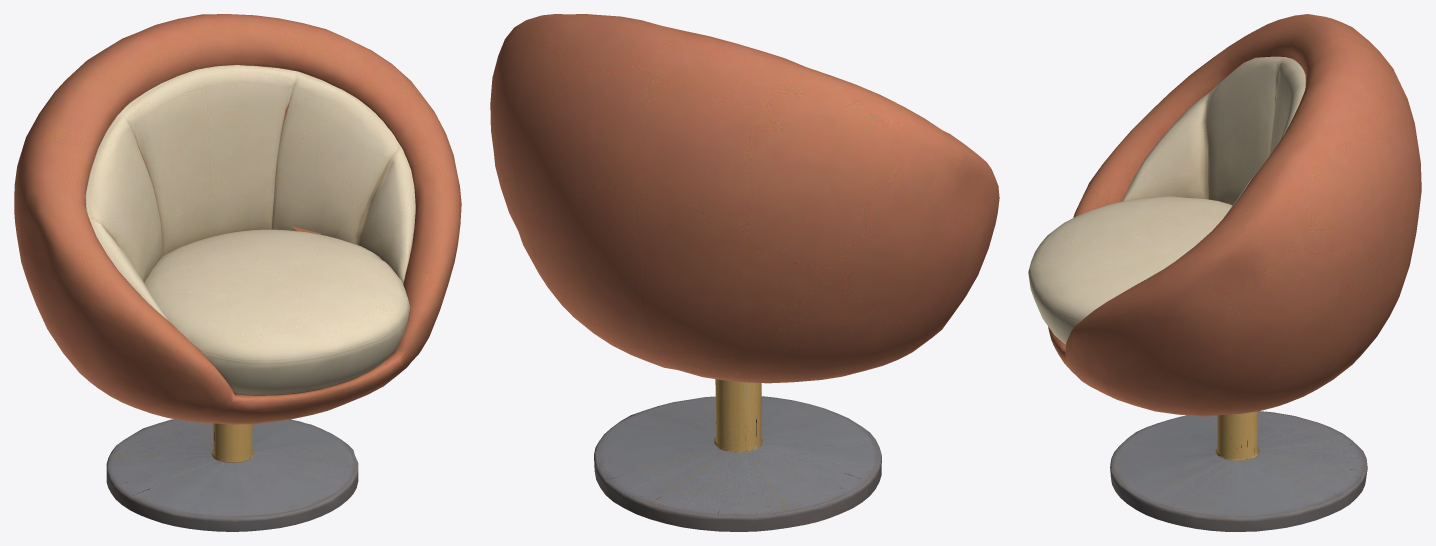
File: armchair.shell.glb
3 views of the same model, side by side, from view 1: azimuth 30°, elevation 25°; view 2: azimuth 150°, elevation 25°; view 3: azimuth 270°, elevation 25° (orthographic). The views are drawn at different scales.
Visible parts, largest first — view 1: geometry_0; view 2: geometry_0; view 3: geometry_0.
Part boxes in pixels (bbox=[...]): geometry_0: bbox=[14, 14, 461, 531]; geometry_0: bbox=[490, 14, 999, 531]; geometry_0: bbox=[1028, 14, 1421, 531].
Bounding box in the file's own units: 1 × 1 × 0.8388.
1 material, 1 textured.
